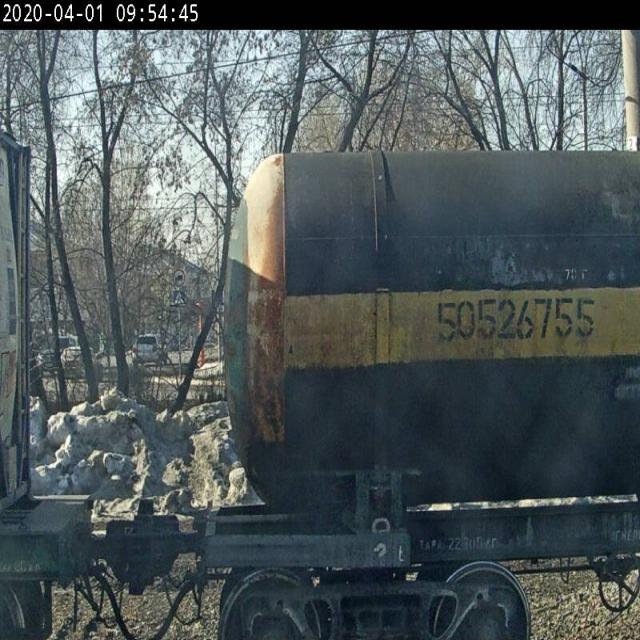tank: (195, 62, 640, 640)
